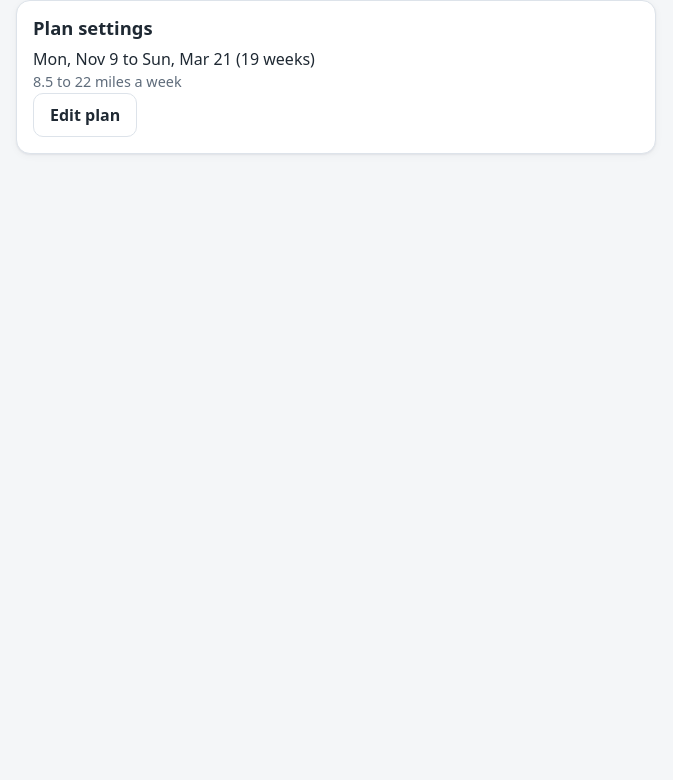
Test: PlanSettingsCard › opens the form with the saved numbers
Expected: the heading "Plan settings" is shown, [33,15,153,40]
Click the button "Edit plan".
click(85, 115)  # box [33,93,137,137]
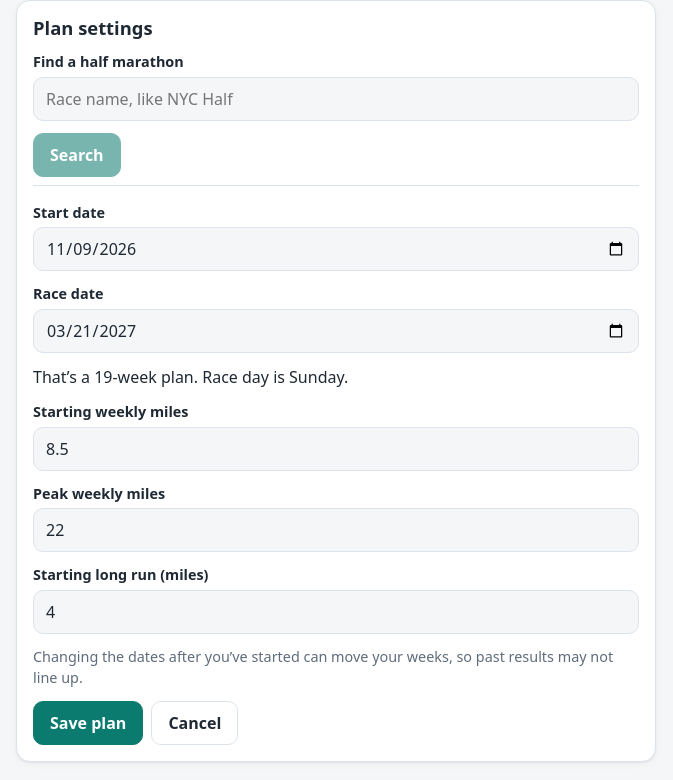
Expected: the date field labelled "Race date" holds "2027-03-21", [33,309,639,353]
Expected: the number field labelled "Peak weekly miles" holds "22", [33,508,639,552]
